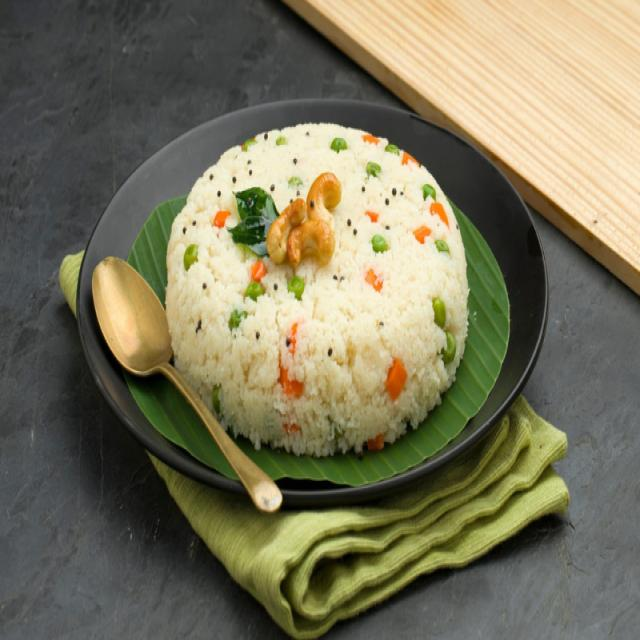UPMA: (166, 124, 468, 456)
